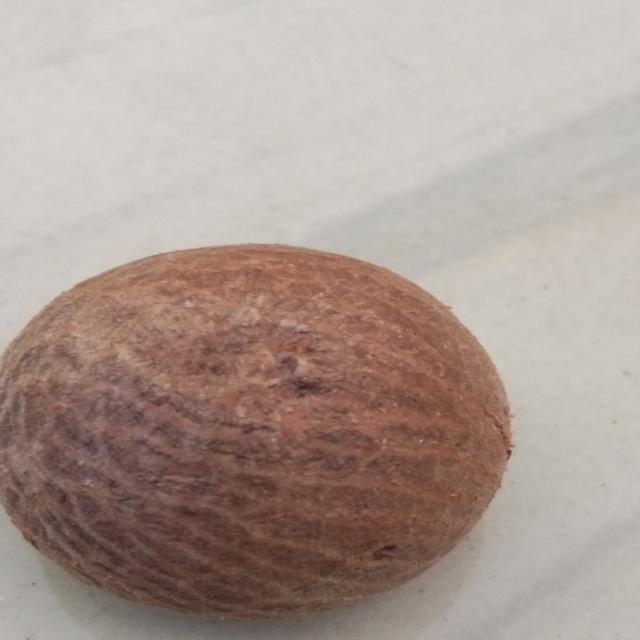phatora: (0, 244, 534, 624)
